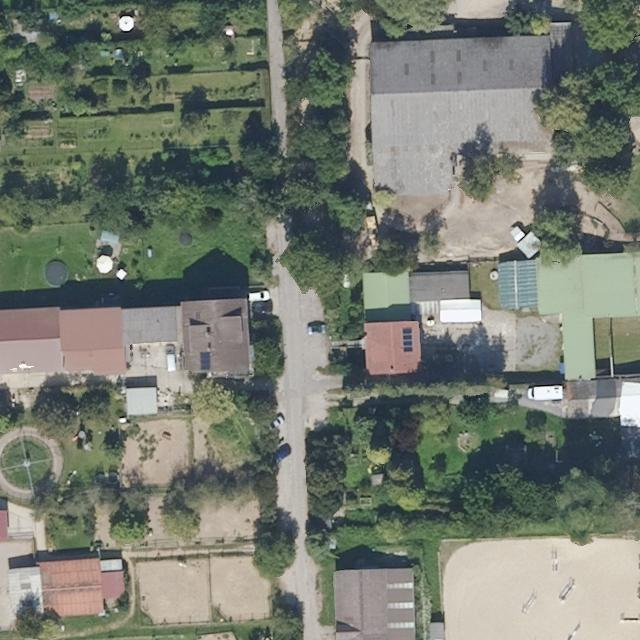PV: (400, 324, 415, 356), (199, 349, 213, 374)
